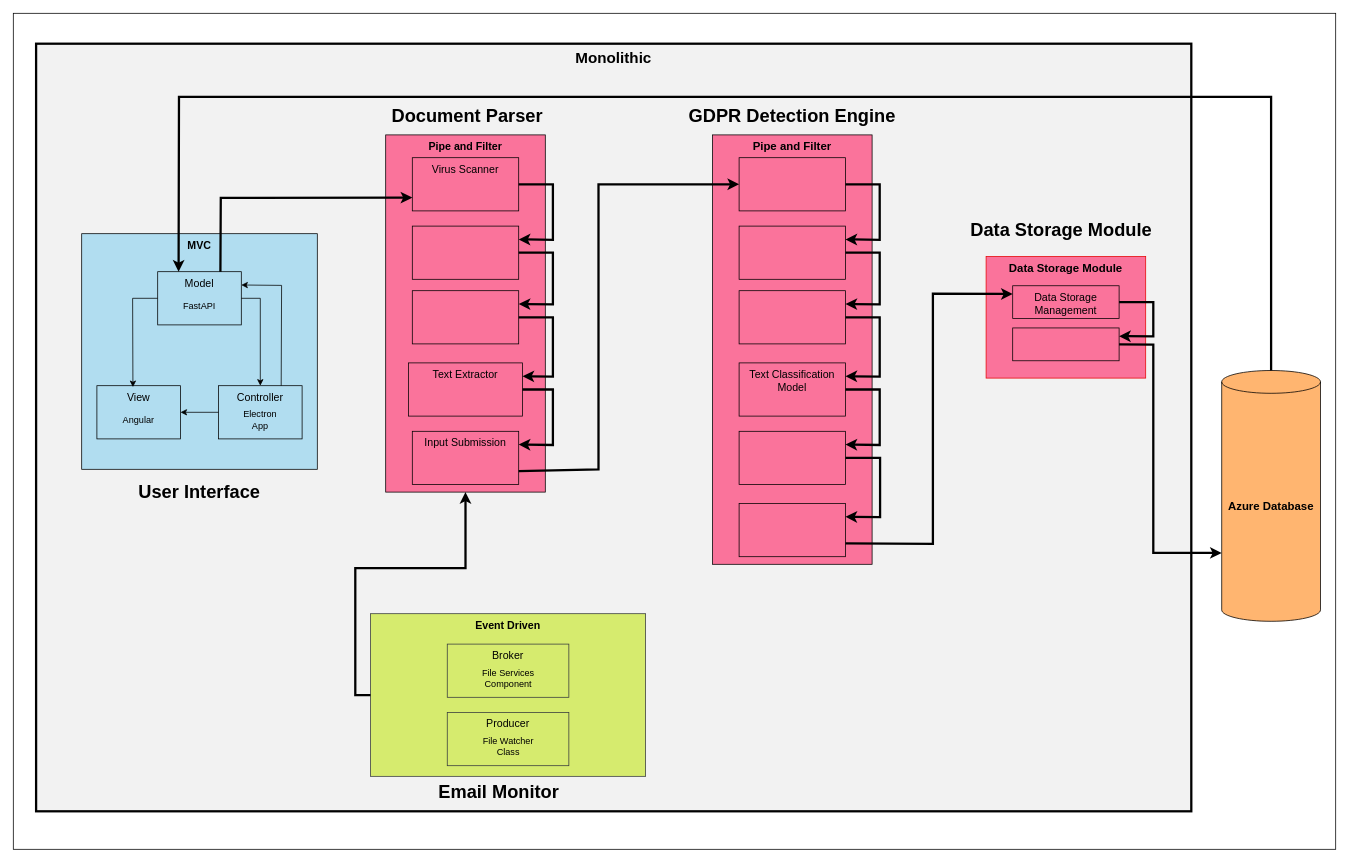
Some shapes in this 1349 by 863 pixel diagram are drawn without their labels. Here are the shapes that lost their labels. From the top down, the centre of each, then its label:
point (792, 184): Language Detector
point (465, 252): Validator
point (792, 252): Regex Layer
point (465, 317): OCR
point (792, 317): Metadata Analysis
point (1065, 344): Data Protection and Securtiy
point (792, 457): Output Interpreter
point (792, 530): Report Generation Layer
